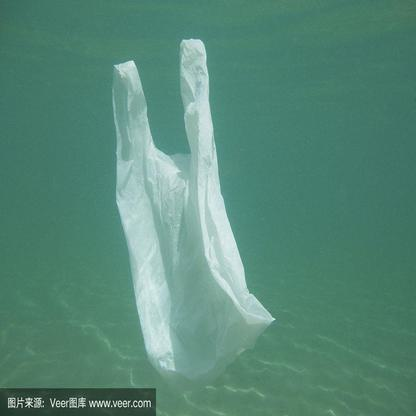plastic bag: (114, 35, 273, 390)
